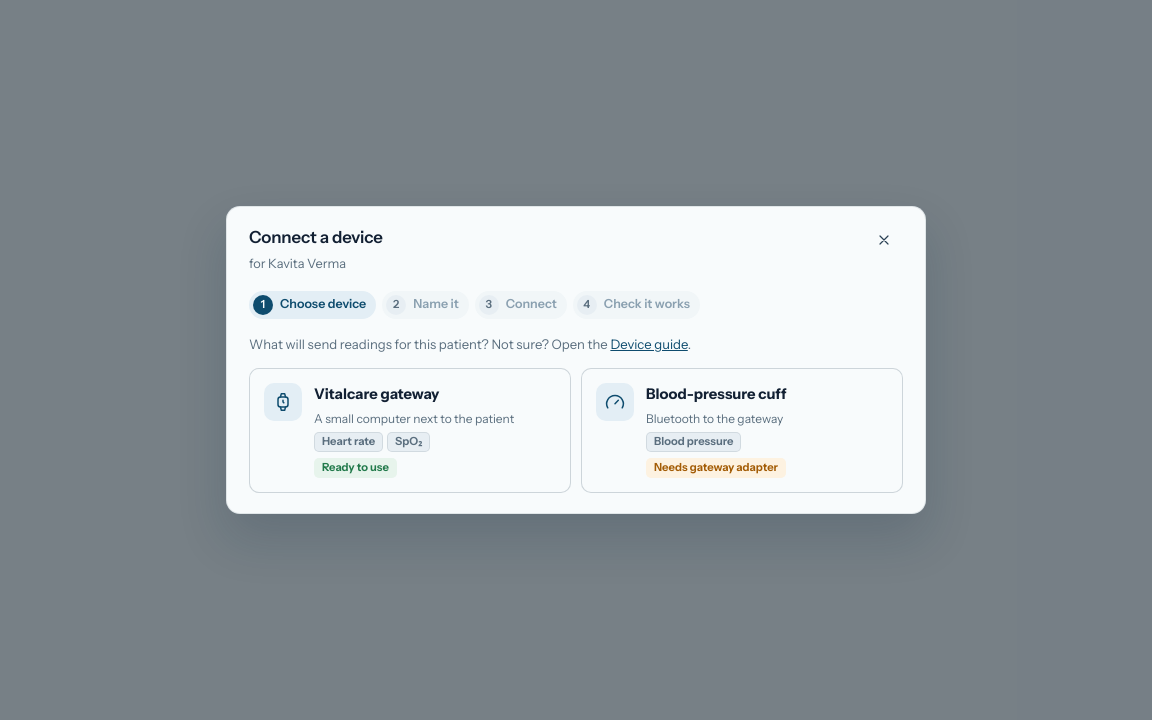
it: ConnectDevice wizard › guides from choosing a device to readings arriving
Later steps or results of the test are not shown.
Expected: the text "Needs gateway adapter" is shown, [646, 458, 786, 478]
Click the text "Vitalcare gateway".
click(377, 394)  # box [314, 386, 439, 404]
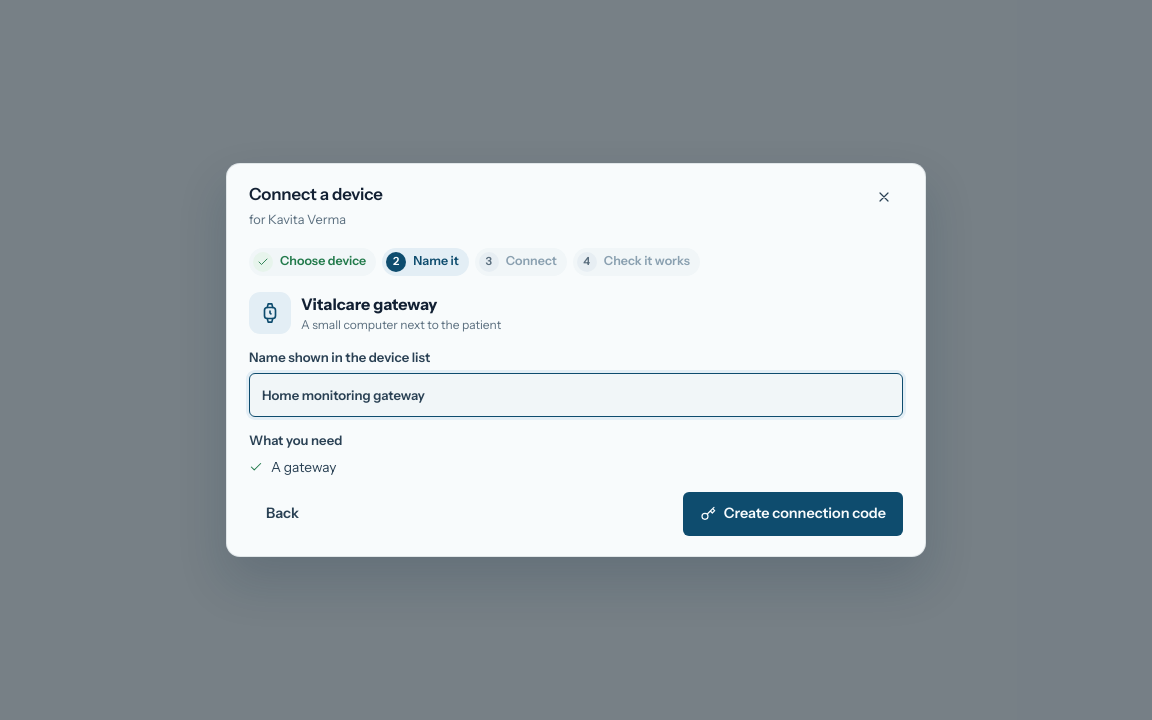
Now the field labelled "Name shown in the device list" holds "Home monitoring gateway"
Replace the text in the field labelled "Name shown in the device list" with "Kavita's gateway" at (576, 395), box [249, 373, 903, 417]
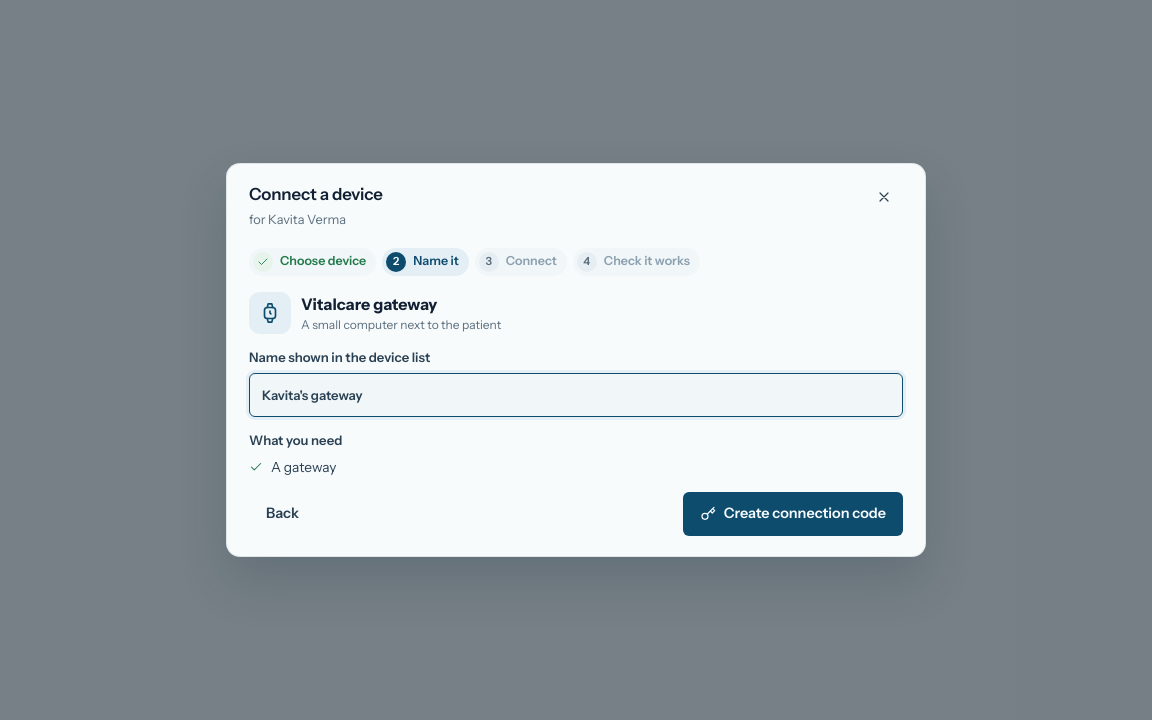
Click the button "Create connection code".
click(793, 514)  # box [683, 492, 903, 536]
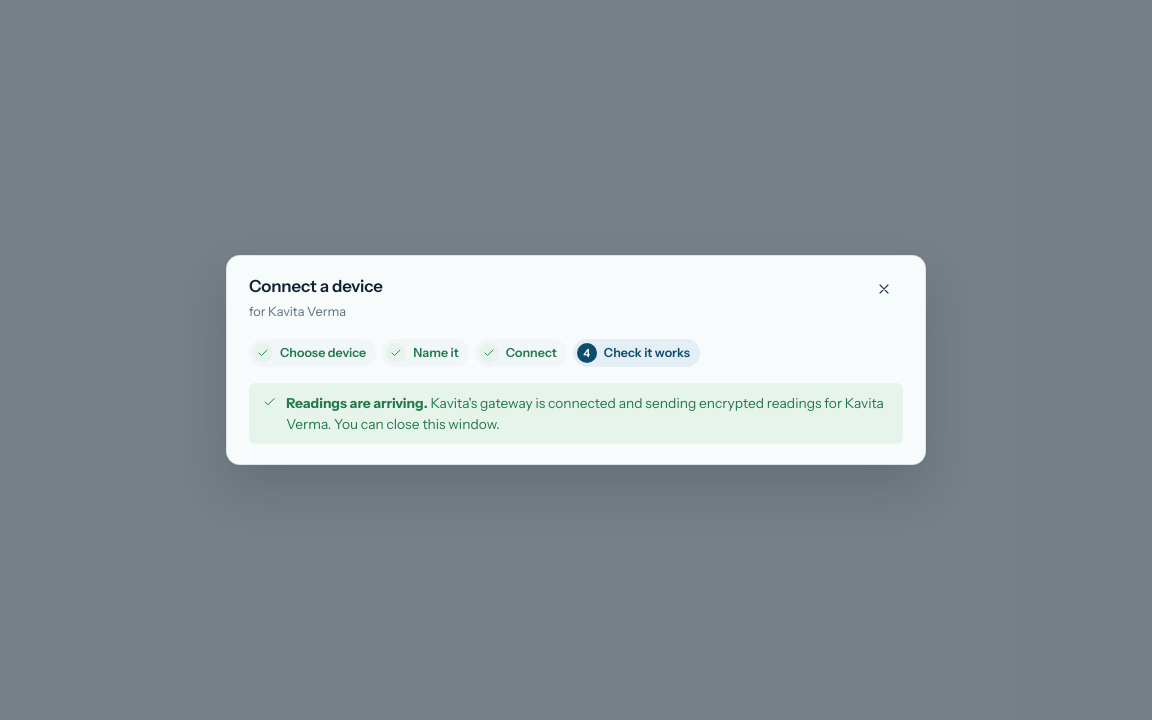
Expected: the icon in the row of "Connect a device" is shown, [876, 281, 892, 297]
Now the text "Readings are arriving." is shown, box [286, 395, 428, 411]
